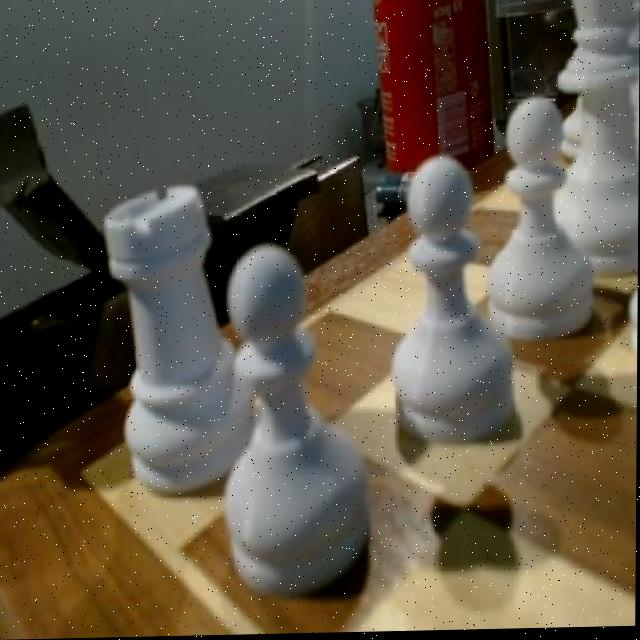white-knight: (222, 238, 372, 602), (388, 152, 519, 450), (486, 93, 596, 343)
white-queen: (105, 177, 251, 492)
